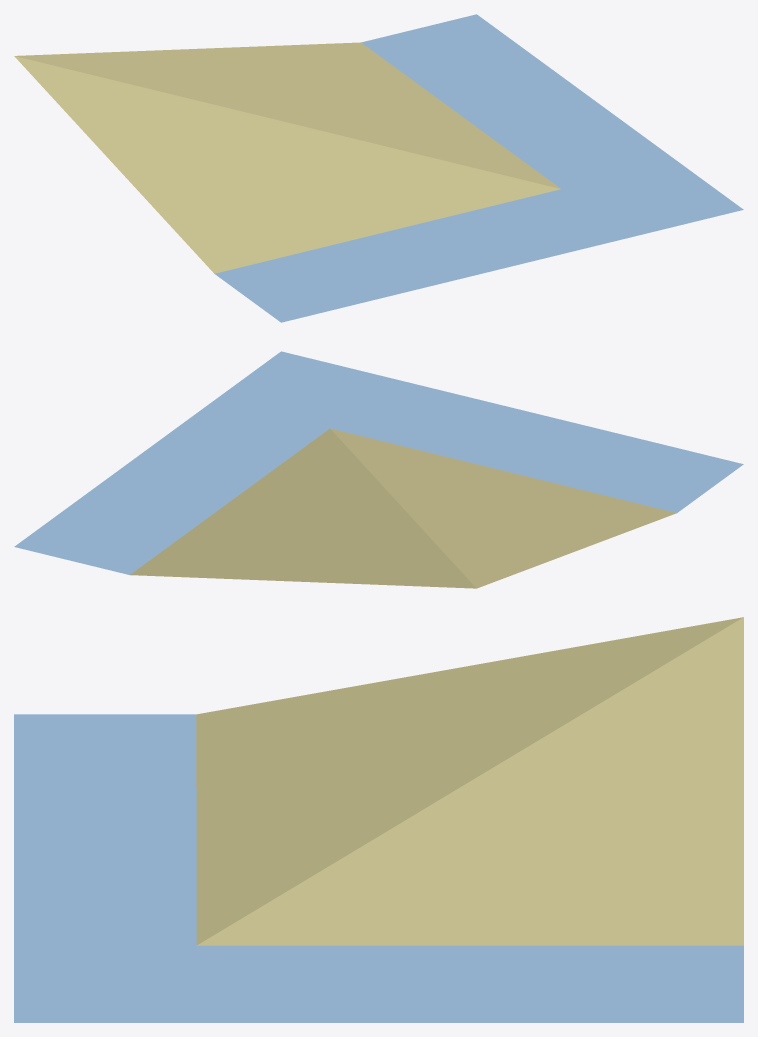
Rendered from beach_tile_1x1_009.fbx.
The picture shows the model from 3 angles, top to bottom: view 1: azimuth 30°, elevation 25°; view 2: azimuth 150°, elevation 25°; view 3: azimuth 270°, elevation 25°; orthographic projection. The views are drawn at different scales.
Visible parts, largest first — view 1: beach_tile_1x1_009; view 2: beach_tile_1x1_009; view 3: beach_tile_1x1_009.
Part boxes in pixels (x1=…): beach_tile_1x1_009: x1=14, y1=14, x2=743, y2=322; beach_tile_1x1_009: x1=14, y1=351, x2=743, y2=588; beach_tile_1x1_009: x1=14, y1=617, x2=743, y2=1022.
Size of the model in its own units: 800 by 118 by 800.
